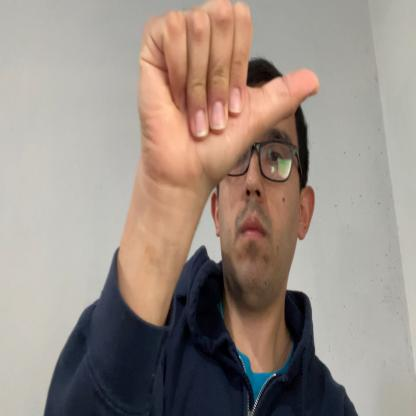A: (138, 0, 320, 187)
